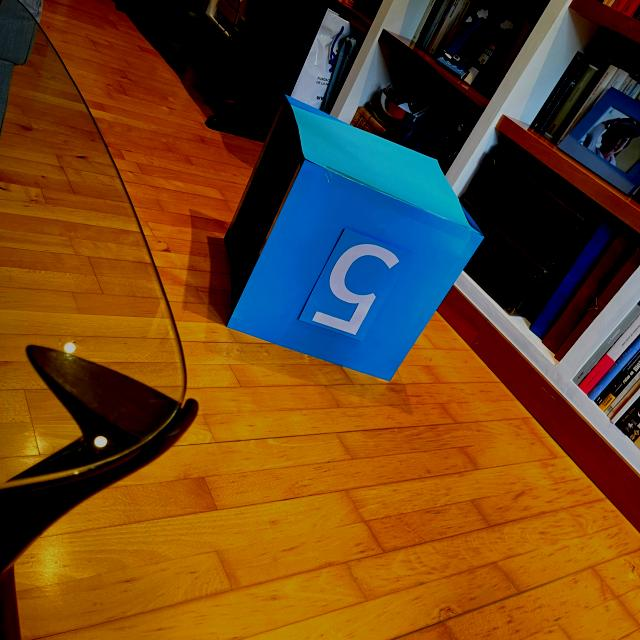box: (221, 92, 485, 383)
